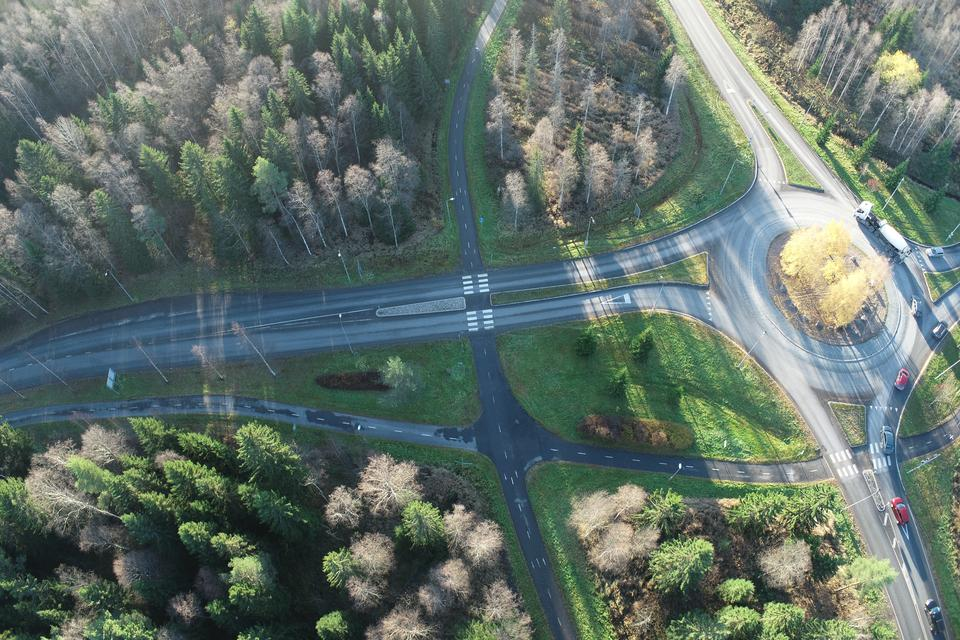intersection: (798, 426, 927, 493), (444, 242, 519, 356)
roundabout: (653, 133, 960, 411)
